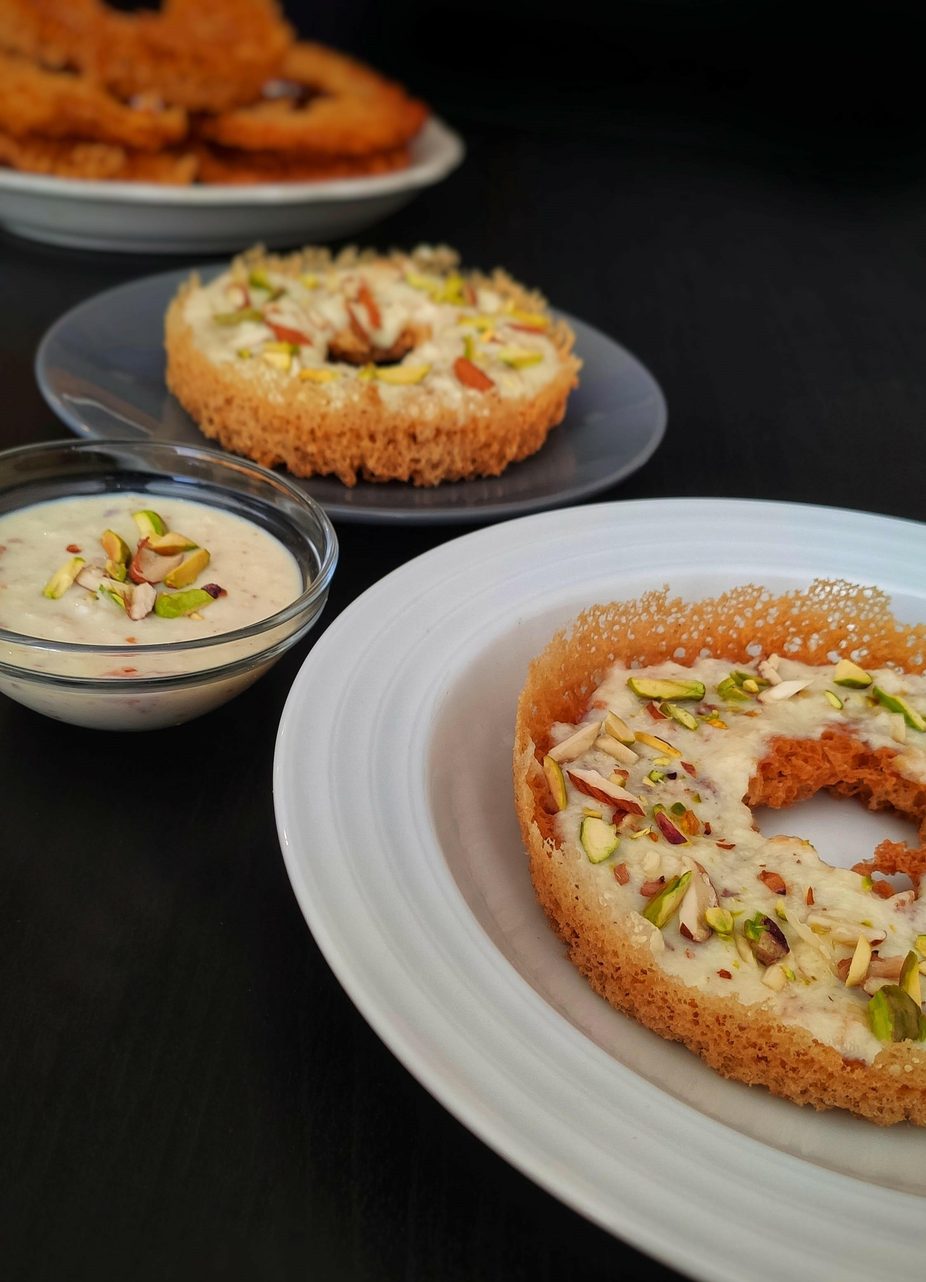Ghevar: (509, 581, 926, 1135), (162, 234, 578, 484)
